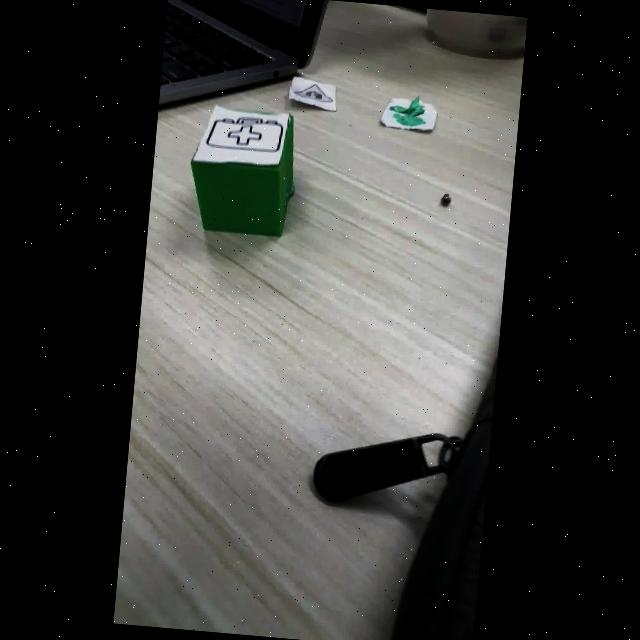Medkit: (205, 118, 283, 152)
